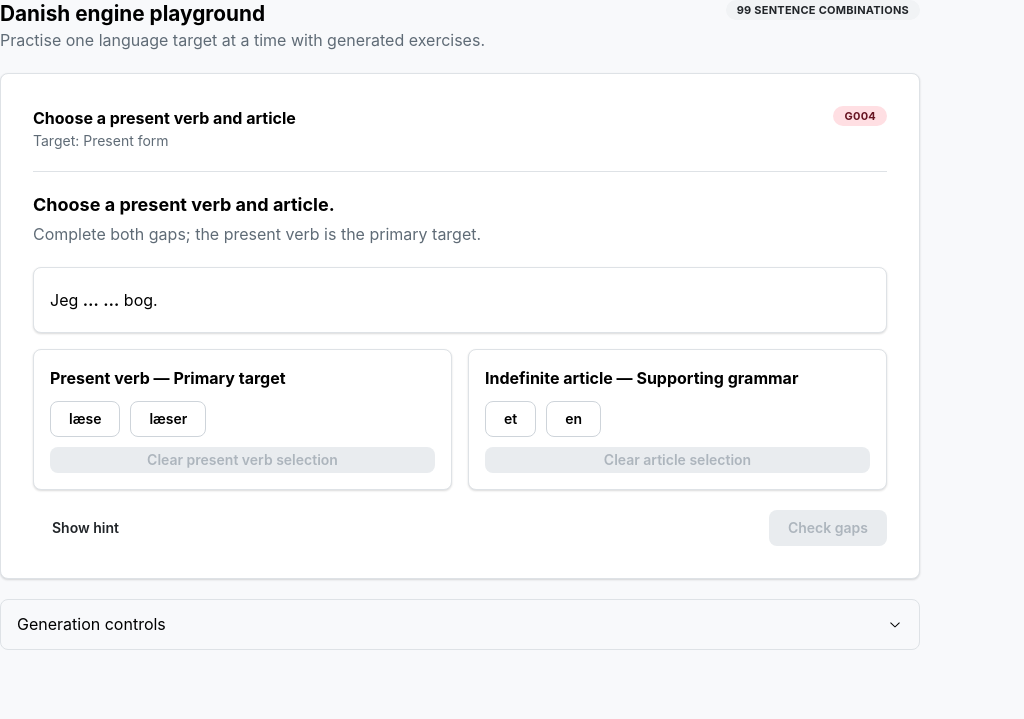
Test: multiple-gap playground › replays ordered selections exactly and retains editable mixed feedback for retry
Click the button "et": (511, 419) x1=485 y1=401 x2=536 y2=437
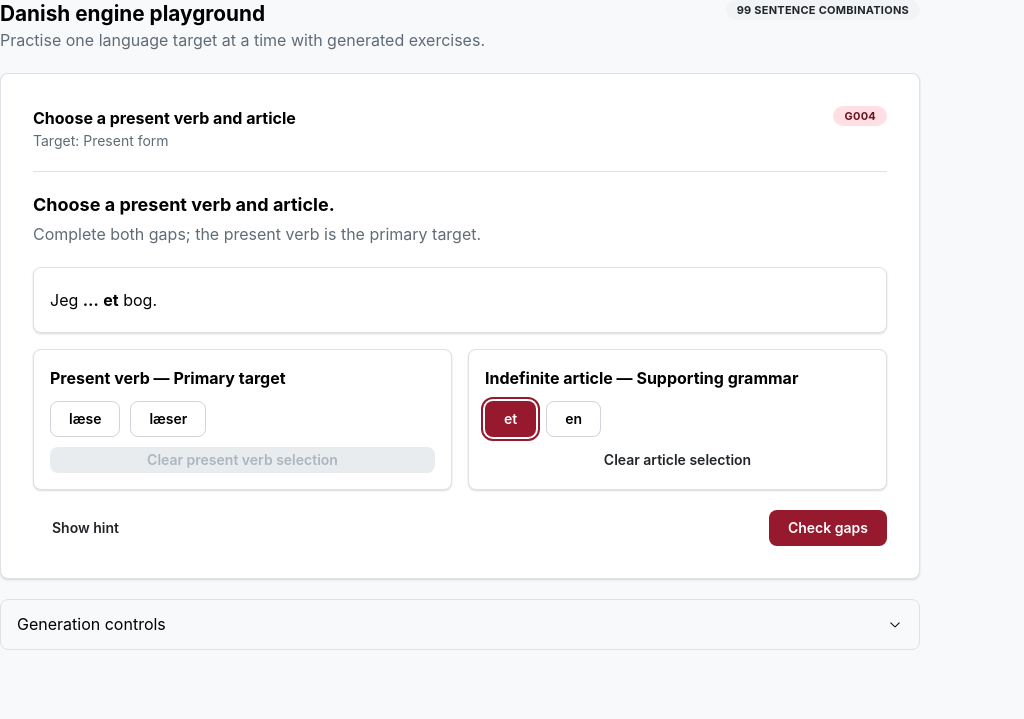
Click the button "læser": (168, 419) x1=130 y1=401 x2=206 y2=437
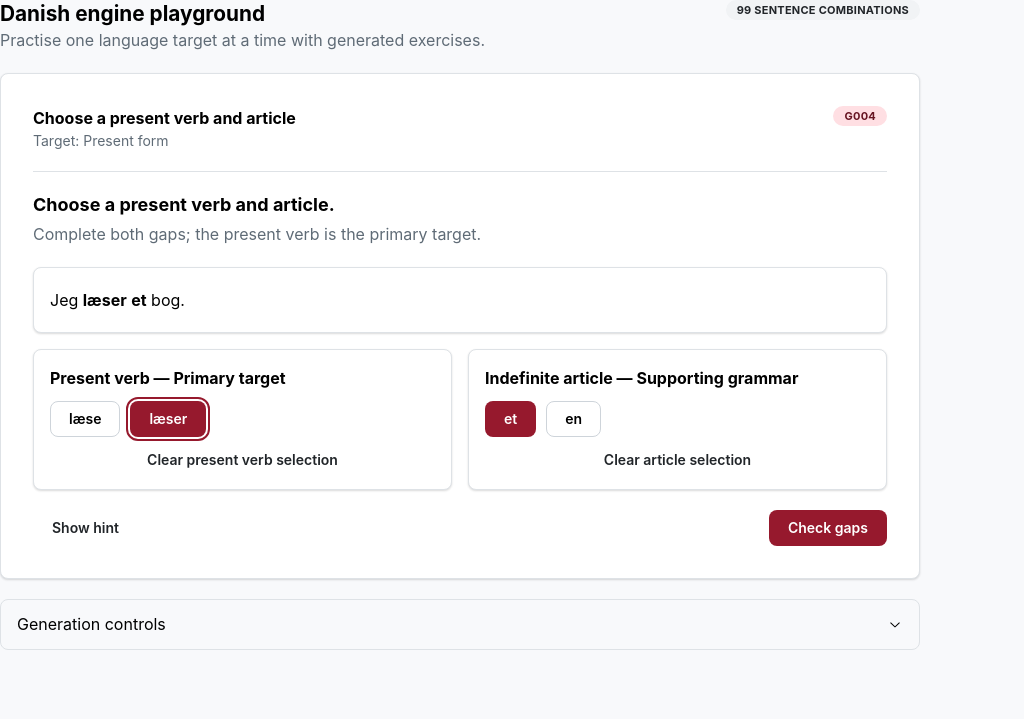
Click the button "Check gaps": (828, 528) x1=769 y1=510 x2=887 y2=546
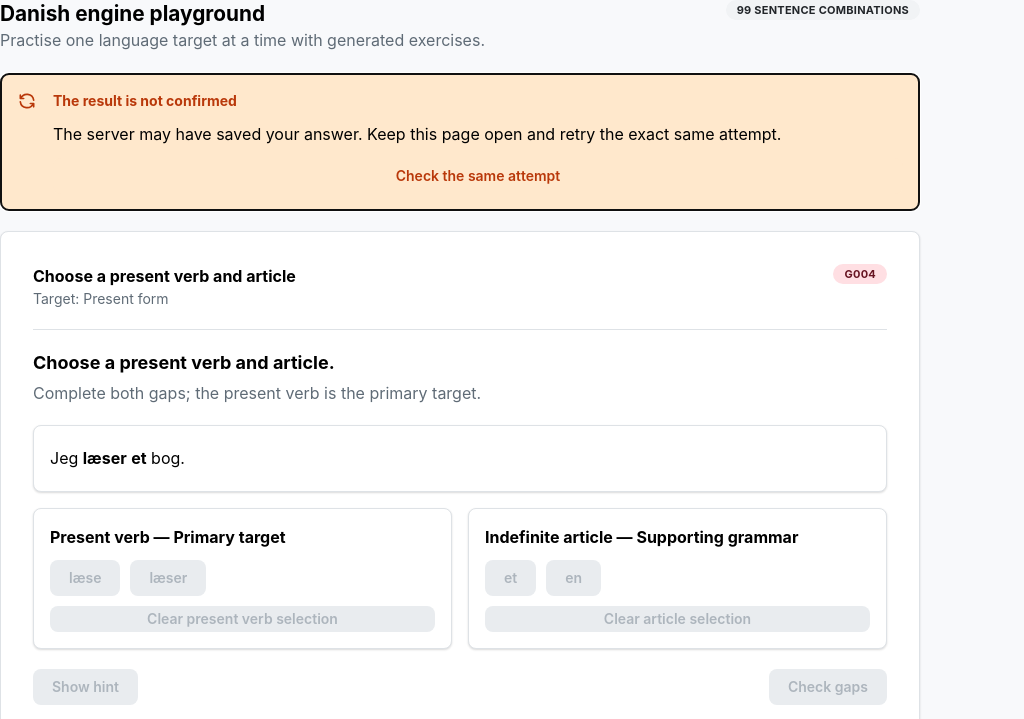
Expected: the text "The result is not confirmed" is shown, x1=53 y1=90 x2=237 y2=112
Expected: the button "et" is disabled, x1=485 y1=560 x2=536 y2=596
Expected: the button "en" is disabled, x1=546 y1=560 x2=601 y2=596
Click the button "Check the same attempt": (478, 176) x1=53 y1=158 x2=903 y2=194
(page scrolled)
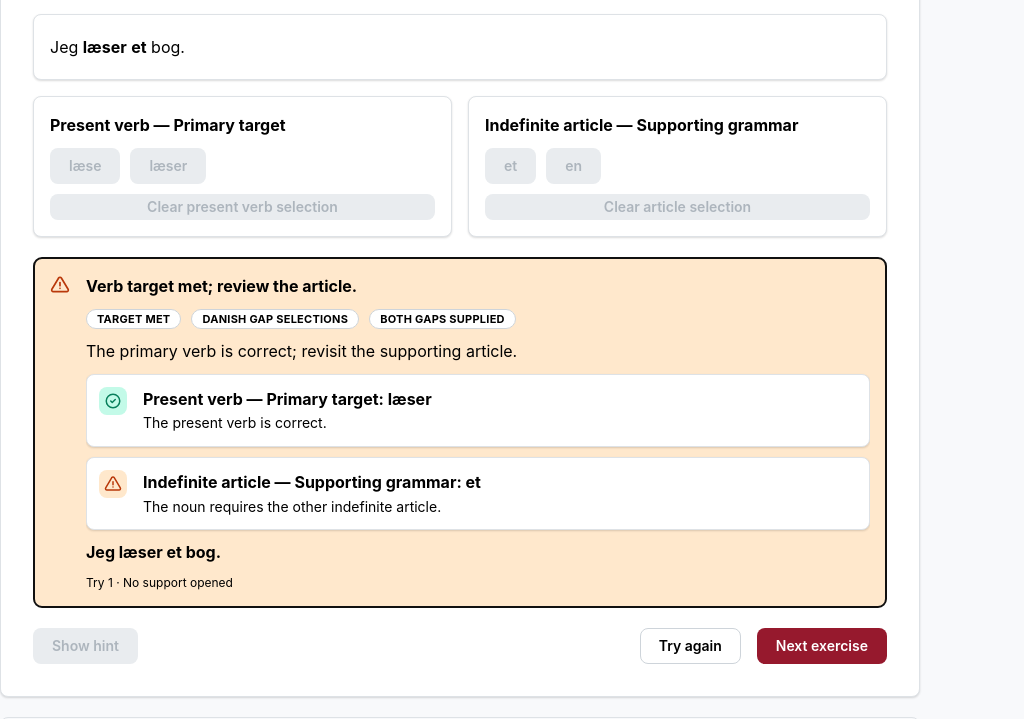
Expected: the element named "Present verb feedback" shows "læser", x1=388 y1=389 x2=432 y2=409
Expected: the element named "Indefinite article feedback" shows "et", x1=466 y1=472 x2=481 y2=492
Expected: the text "Verb target met; review the article." is shown, x1=86 y1=274 x2=357 y2=299
Click the button "Try again": (690, 646) x1=640 y1=628 x2=741 y2=664
(page scrolled)
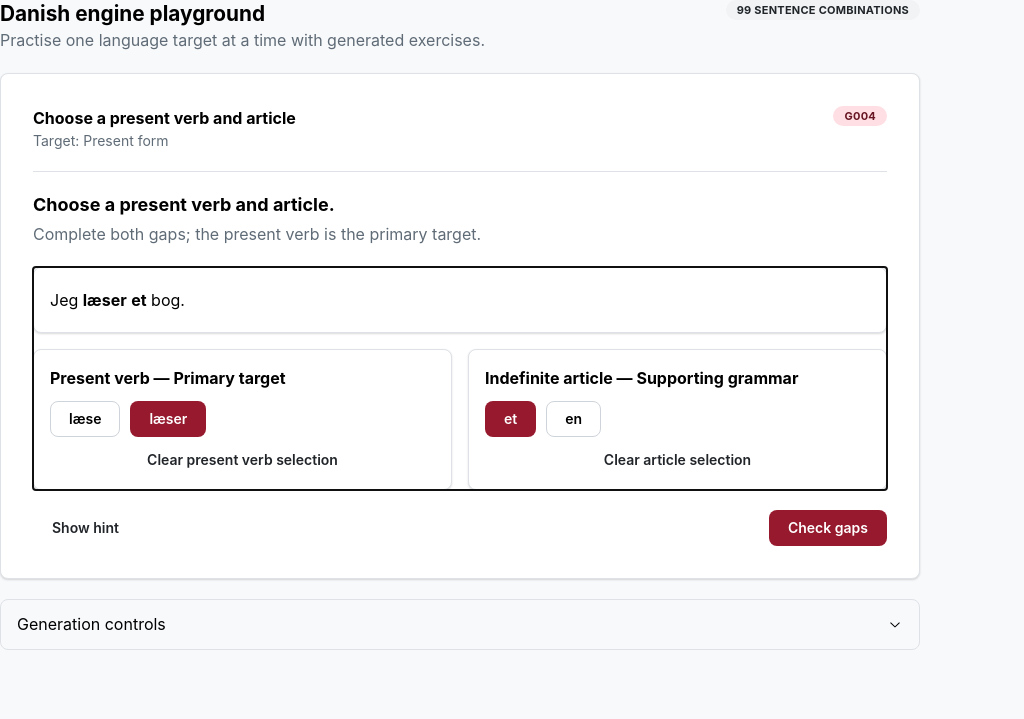
Expected: the button "Clear present verb selection" is enabled, x1=50 y1=447 x2=435 y2=473
Expected: the button "Clear article selection" is enabled, x1=485 y1=447 x2=870 y2=473
